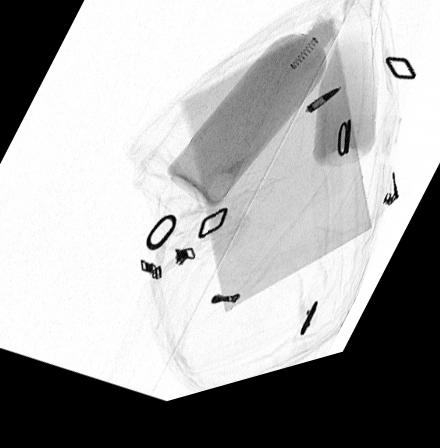Bullet: (306, 106, 341, 131)
